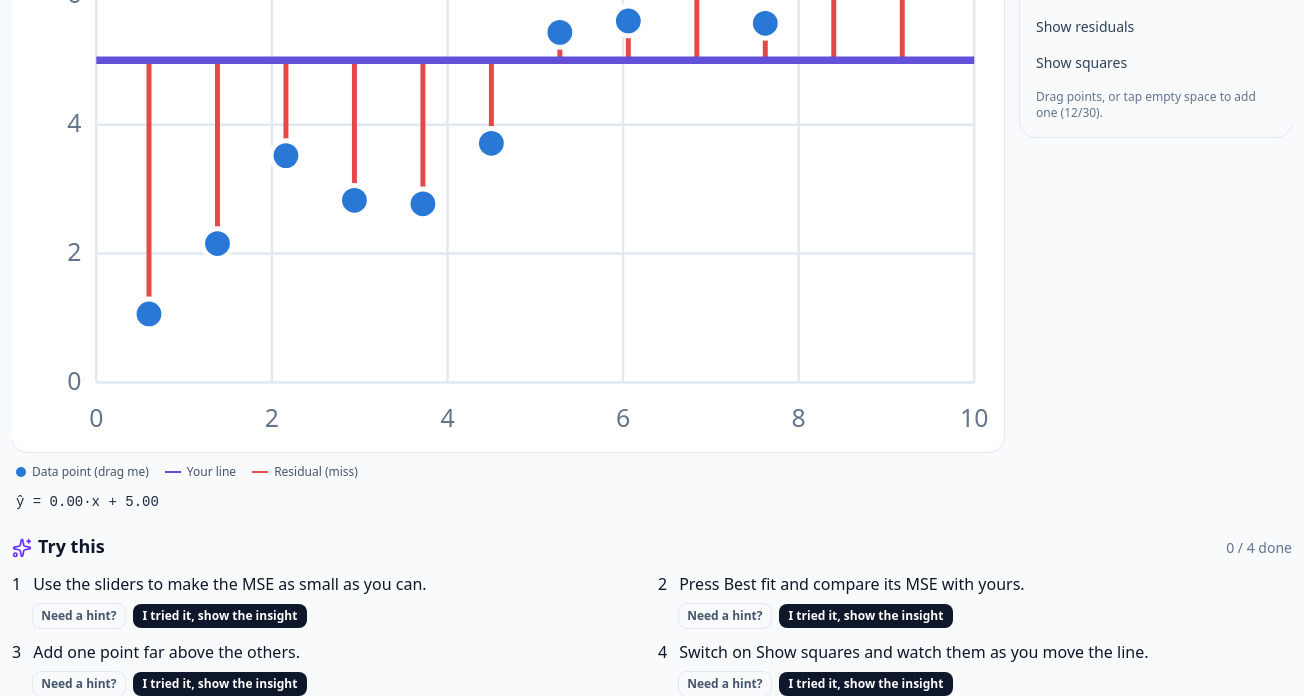
Test: playground tasks › reveal the hint and then the insight
(page scrolled)
Click the 1st button "Need a hint?" at point(79, 616), box 33,604 -> 125,628
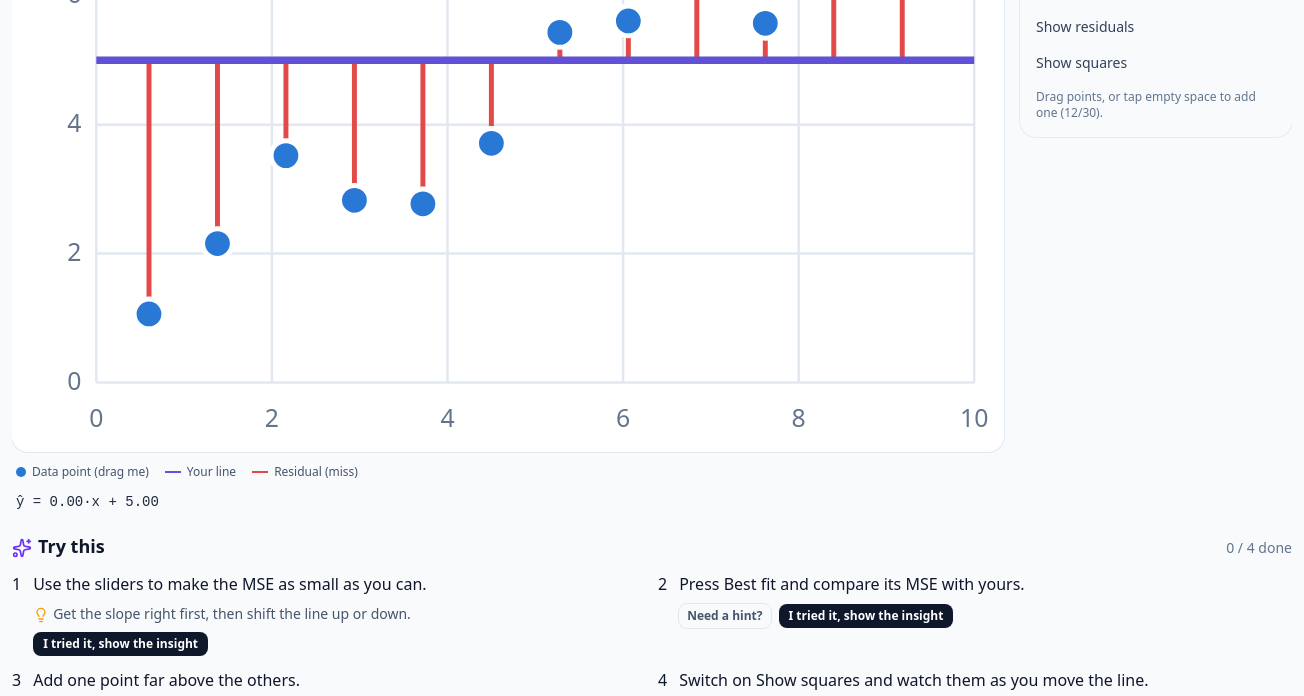
Expected: the text "Get the slope right first, then shift the line up or down." is shown, 33,604 -> 411,623
Click the 2nd button "I tried it, show the insight" at point(121, 644), box 33,632 -> 208,656
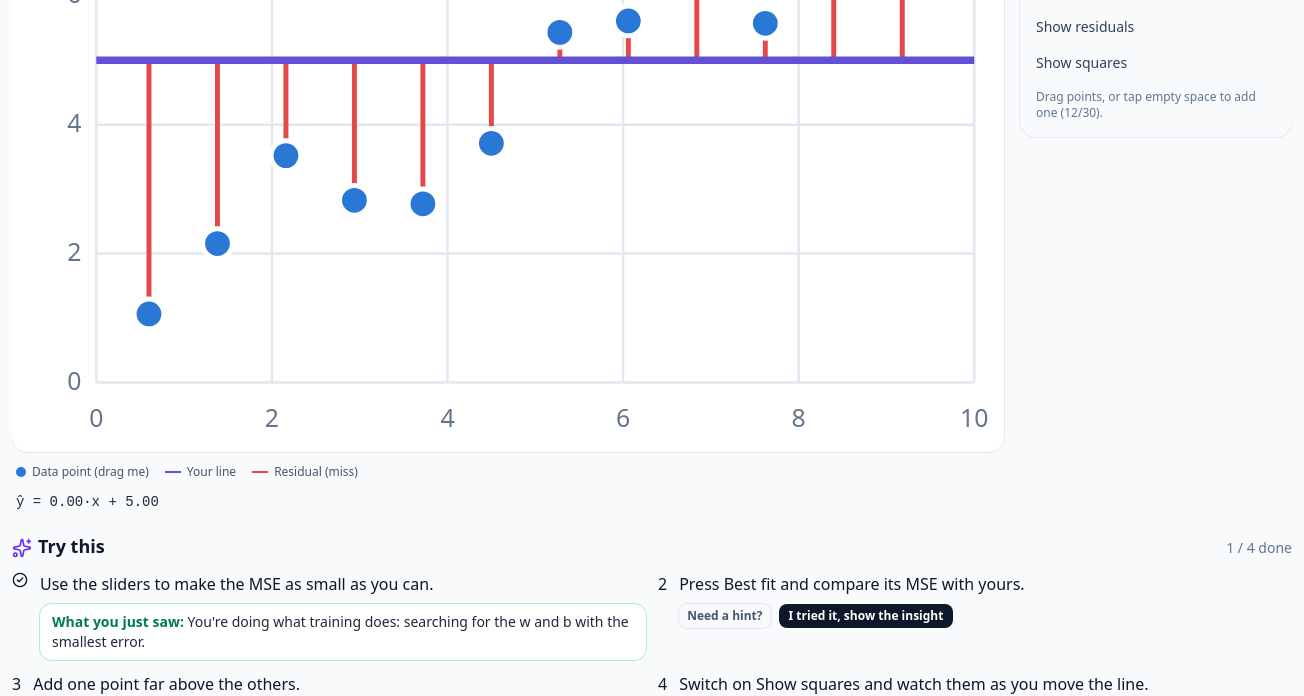
Expected: the text "You're doing what training does: searching for the w and b with the smallest error." is shown, 52,612 -> 629,651
